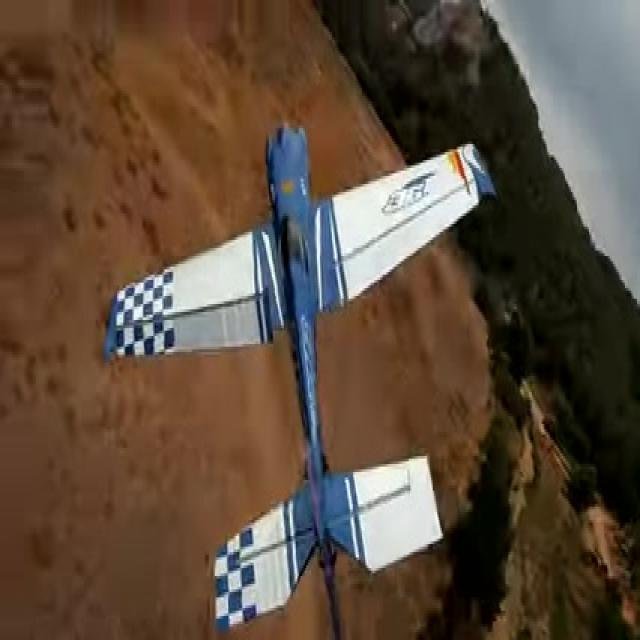iha: (106, 121, 495, 635)
